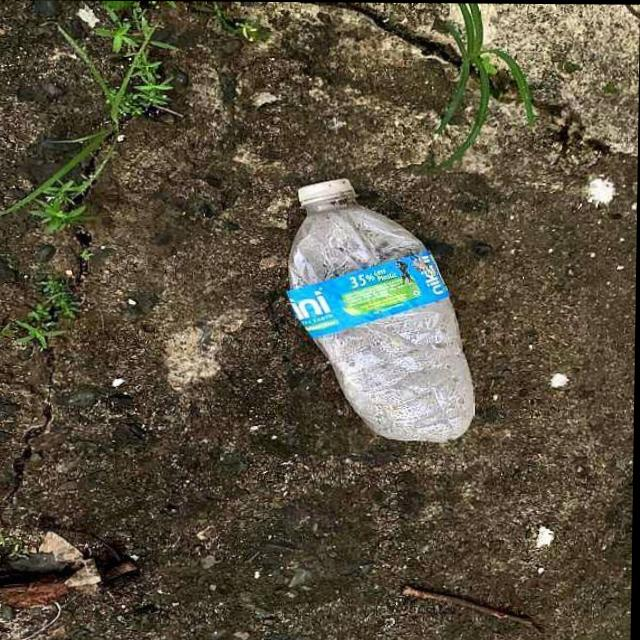Non-biodegradable: (288, 180, 480, 444)
